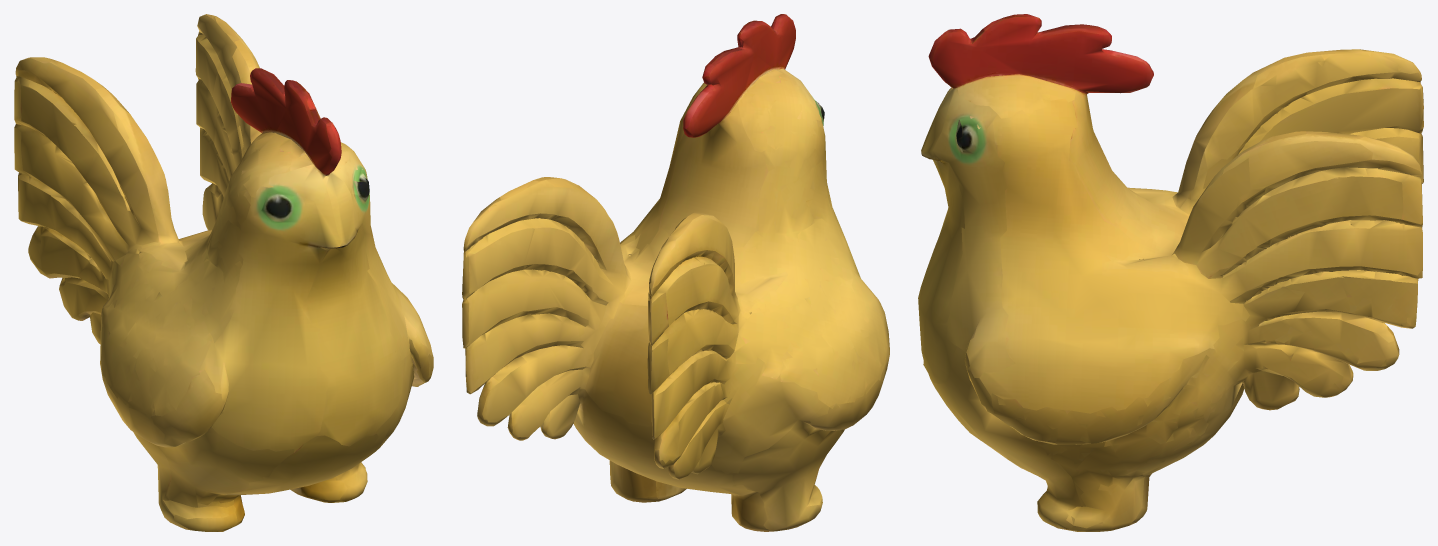
The model's file is naiwa_naiji_runtime.glb.
3 views of the same model, side by side, from view 1: azimuth 30°, elevation 25°; view 2: azimuth 150°, elevation 25°; view 3: azimuth 270°, elevation 25° (orthographic). The views are drawn at different scales.
Parts seen in each view (by area): view 1: geometry_0; view 2: geometry_0; view 3: geometry_0.
Boxes of the visible parts, box(x1,y1,x2,y2) form: geometry_0: box(14, 14, 433, 531); geometry_0: box(462, 14, 889, 531); geometry_0: box(918, 14, 1423, 531).
Bounding box in the file's own units: 0.0666 × 0.0999 × 0.0971.
1 material, 1 textured.
